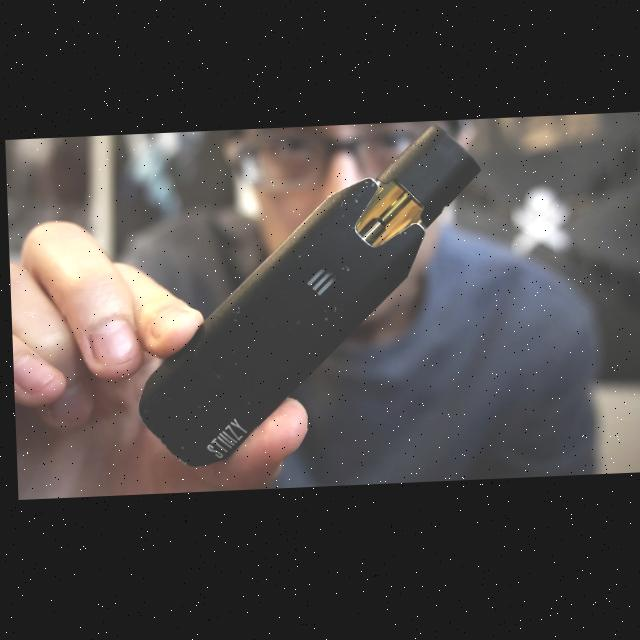vape: (128, 124, 490, 473)
